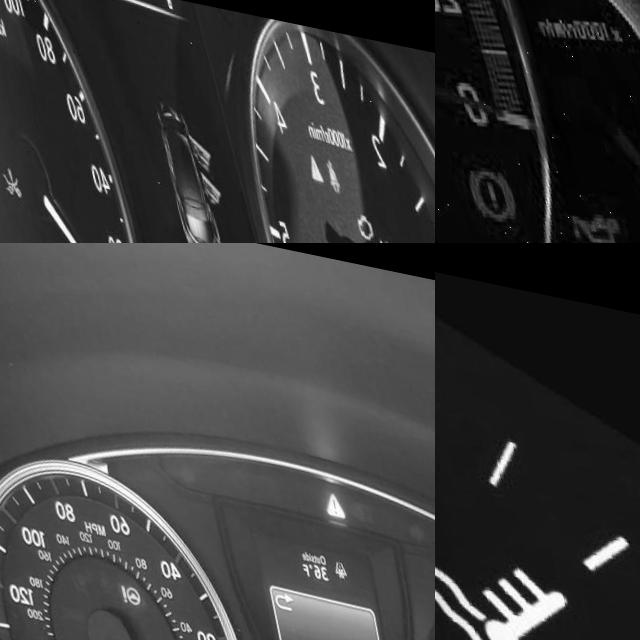Electronic Power Steering: (101, 576, 130, 605)
Electronic Power Steering Warning: (369, 215, 390, 243)
Seat Belt: (318, 138, 336, 174)
